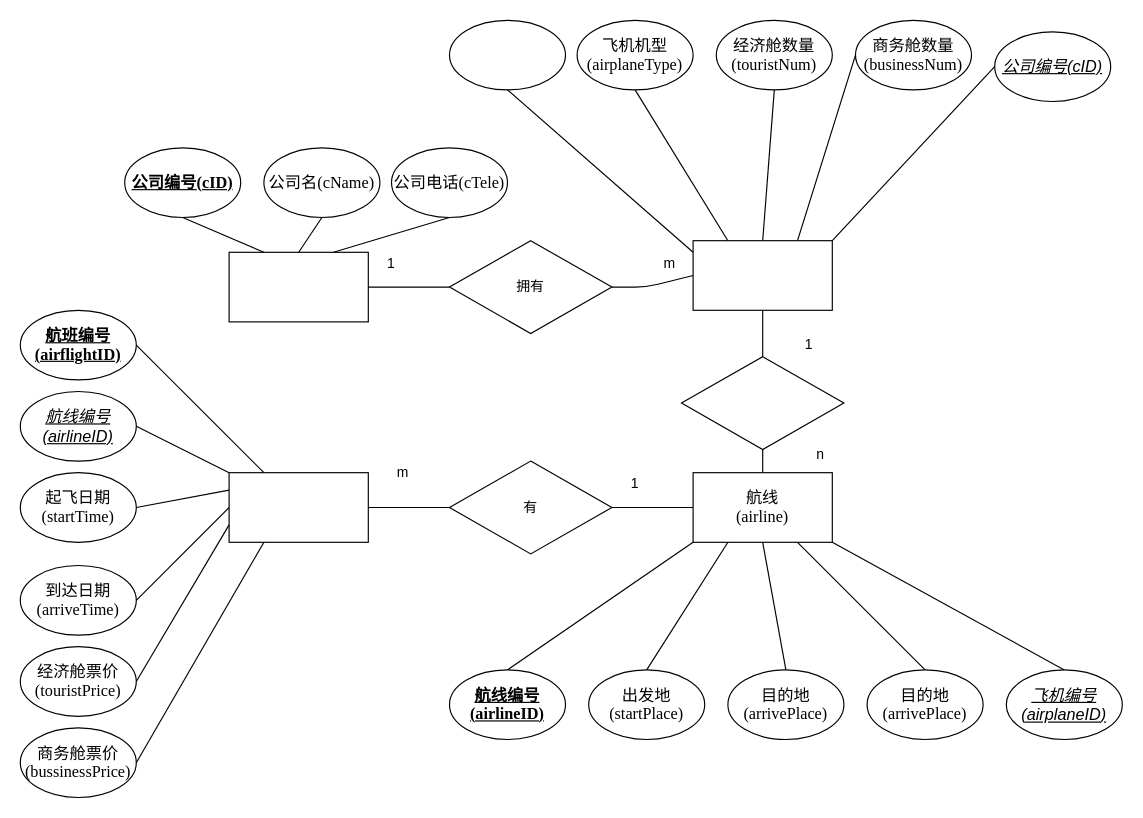
Some shapes in this 1143 by 818 pixel diagram are drawn without their labels. Here are the shapes that lost their labels. From the top down, the centre of each, then its label:
the point at 507,54: 飞机编号 (airplaneID)
the point at 298,286: 航空公司 (airlineCompany )
the point at 762,275: 飞机 (airplane)
the point at 762,402: 参与
the point at 298,507: 航班 (airflight)
